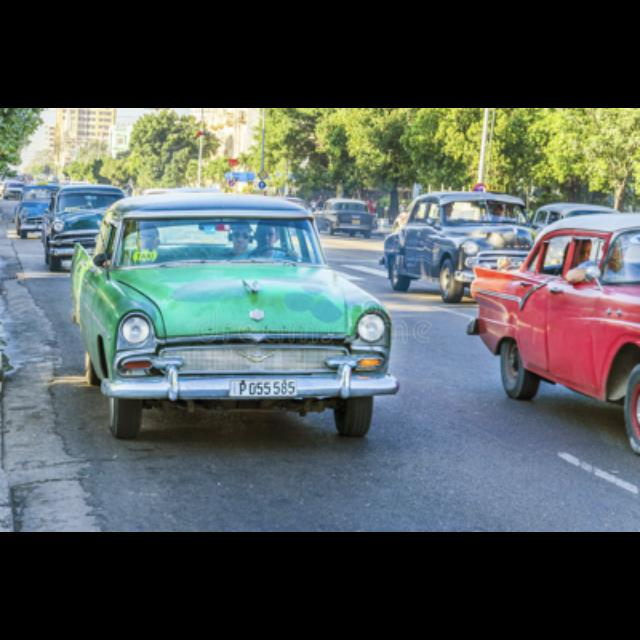carPlate: (230, 379, 298, 396)
